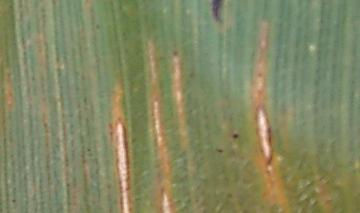tarspot: (208, 1, 228, 25), (230, 132, 239, 141), (214, 146, 223, 154), (170, 49, 179, 57), (94, 22, 101, 31), (10, 198, 17, 206), (256, 71, 263, 78), (64, 182, 72, 188), (86, 147, 92, 153)
